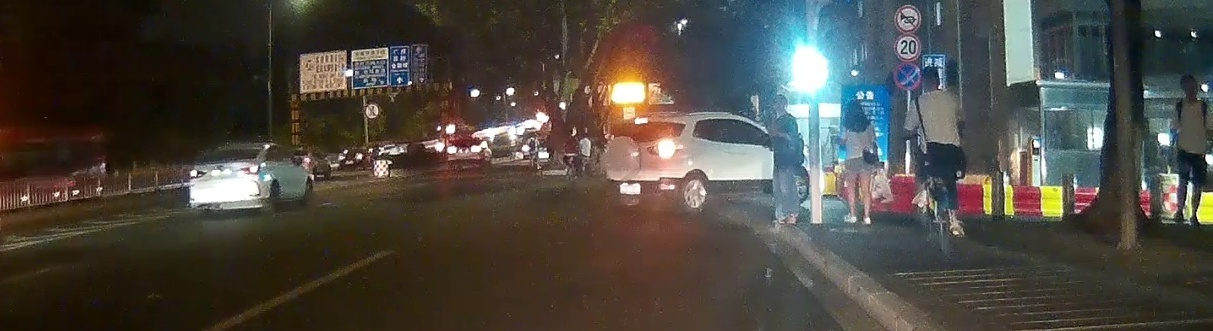L_light: (190, 169, 207, 179)
R_light: (240, 164, 262, 174)
T_light: (227, 149, 239, 152)
night-no: (189, 143, 266, 215)
